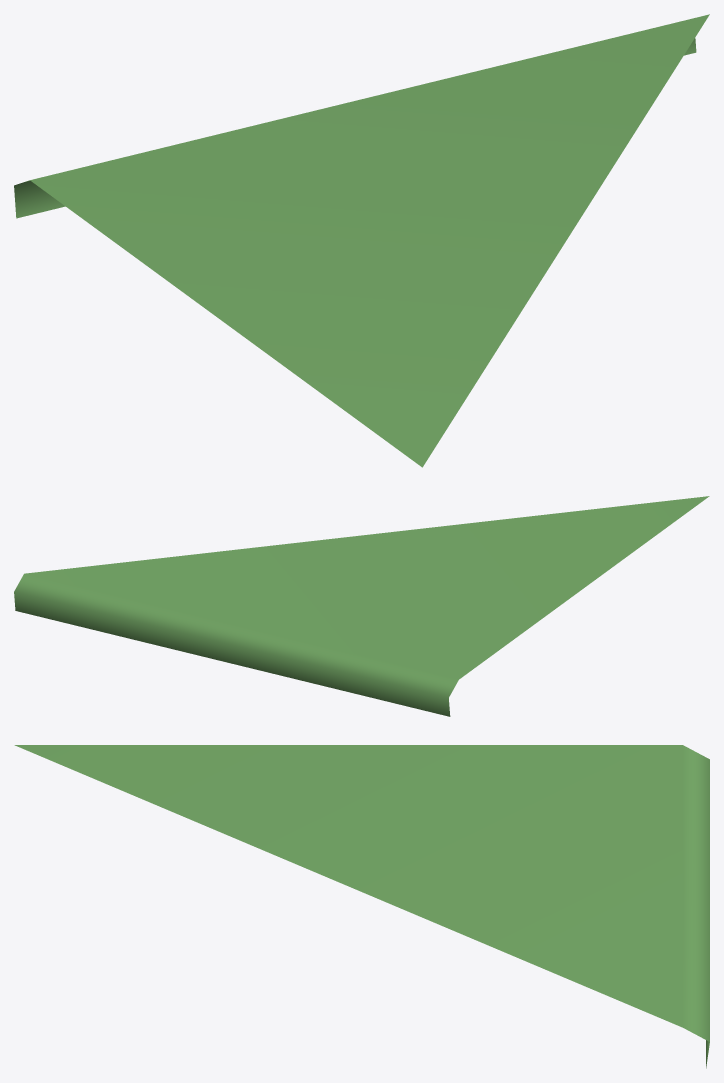
Rendered from GrassHangingCornerTile.fbx.
3 renders of one model, top to bottom at view 1: azimuth 30°, elevation 25°; view 2: azimuth 150°, elevation 25°; view 3: azimuth 270°, elevation 25°, orthographic. The views are drawn at different scales.
Parts seen in each view (by area): view 1: HangingGrass_Corner_Tile; view 2: HangingGrass_Corner_Tile; view 3: HangingGrass_Corner_Tile.
Part boxes in pixels (box(x1,y1,x2,y2)): HangingGrass_Corner_Tile: box(14, 14, 709, 467); HangingGrass_Corner_Tile: box(14, 496, 709, 716); HangingGrass_Corner_Tile: box(14, 745, 709, 1068).
Bounding box in the file's own units: 2 × 0.1356 × 2.08.
